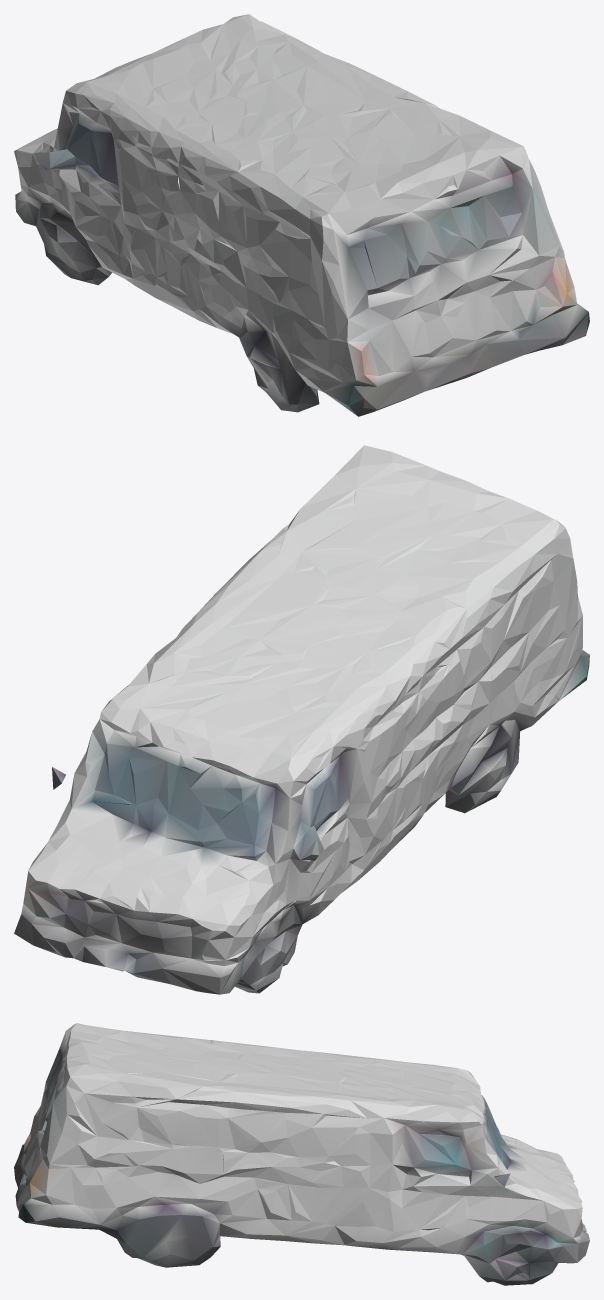
File: van.glb
3 views of the same model, one above another, from view 1: azimuth 30°, elevation 25°; view 2: azimuth 150°, elevation 25°; view 3: azimuth 270°, elevation 25° (orthographic). The views are drawn at different scales.
Visible parts, largest first — view 1: world; view 2: world; view 3: world.
Boxes of the visible parts, bbox=[...] form: world: bbox=[14, 14, 589, 416]; world: bbox=[14, 445, 589, 994]; world: bbox=[14, 1023, 589, 1285].
Bounding box in the file's own units: 2.1 × 2.2 × 5.2.
